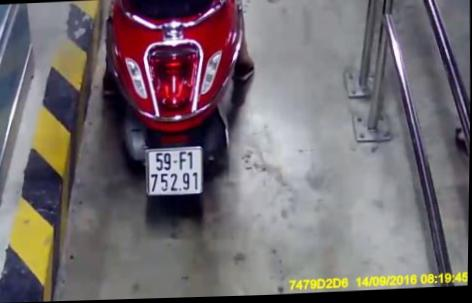LP: (145, 145, 205, 199)
